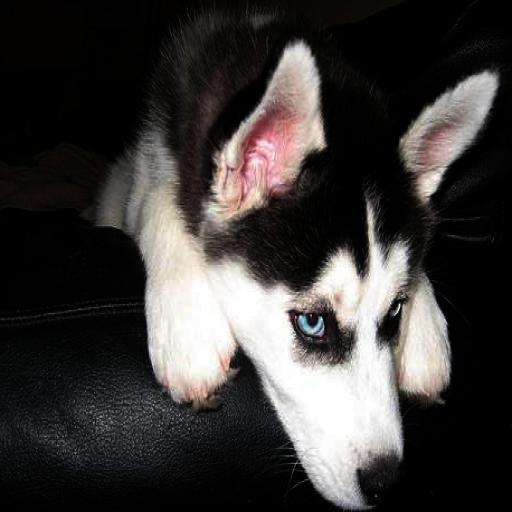dog_face: (216, 39, 486, 512)
